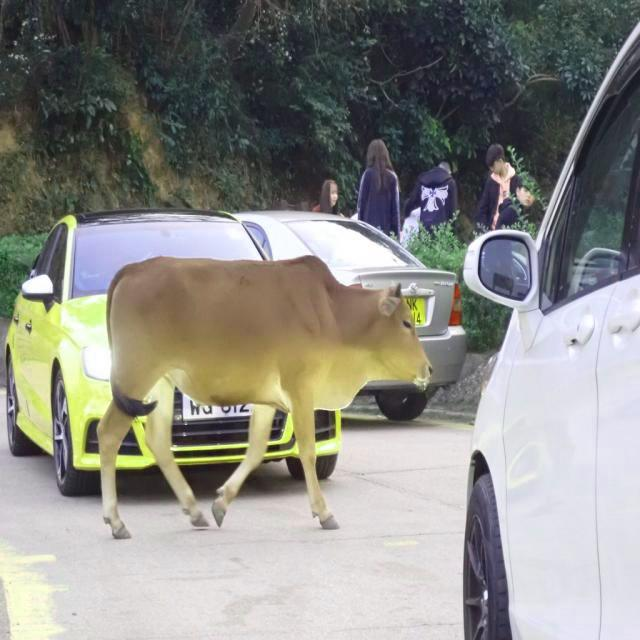cow: (98, 256, 430, 539)
